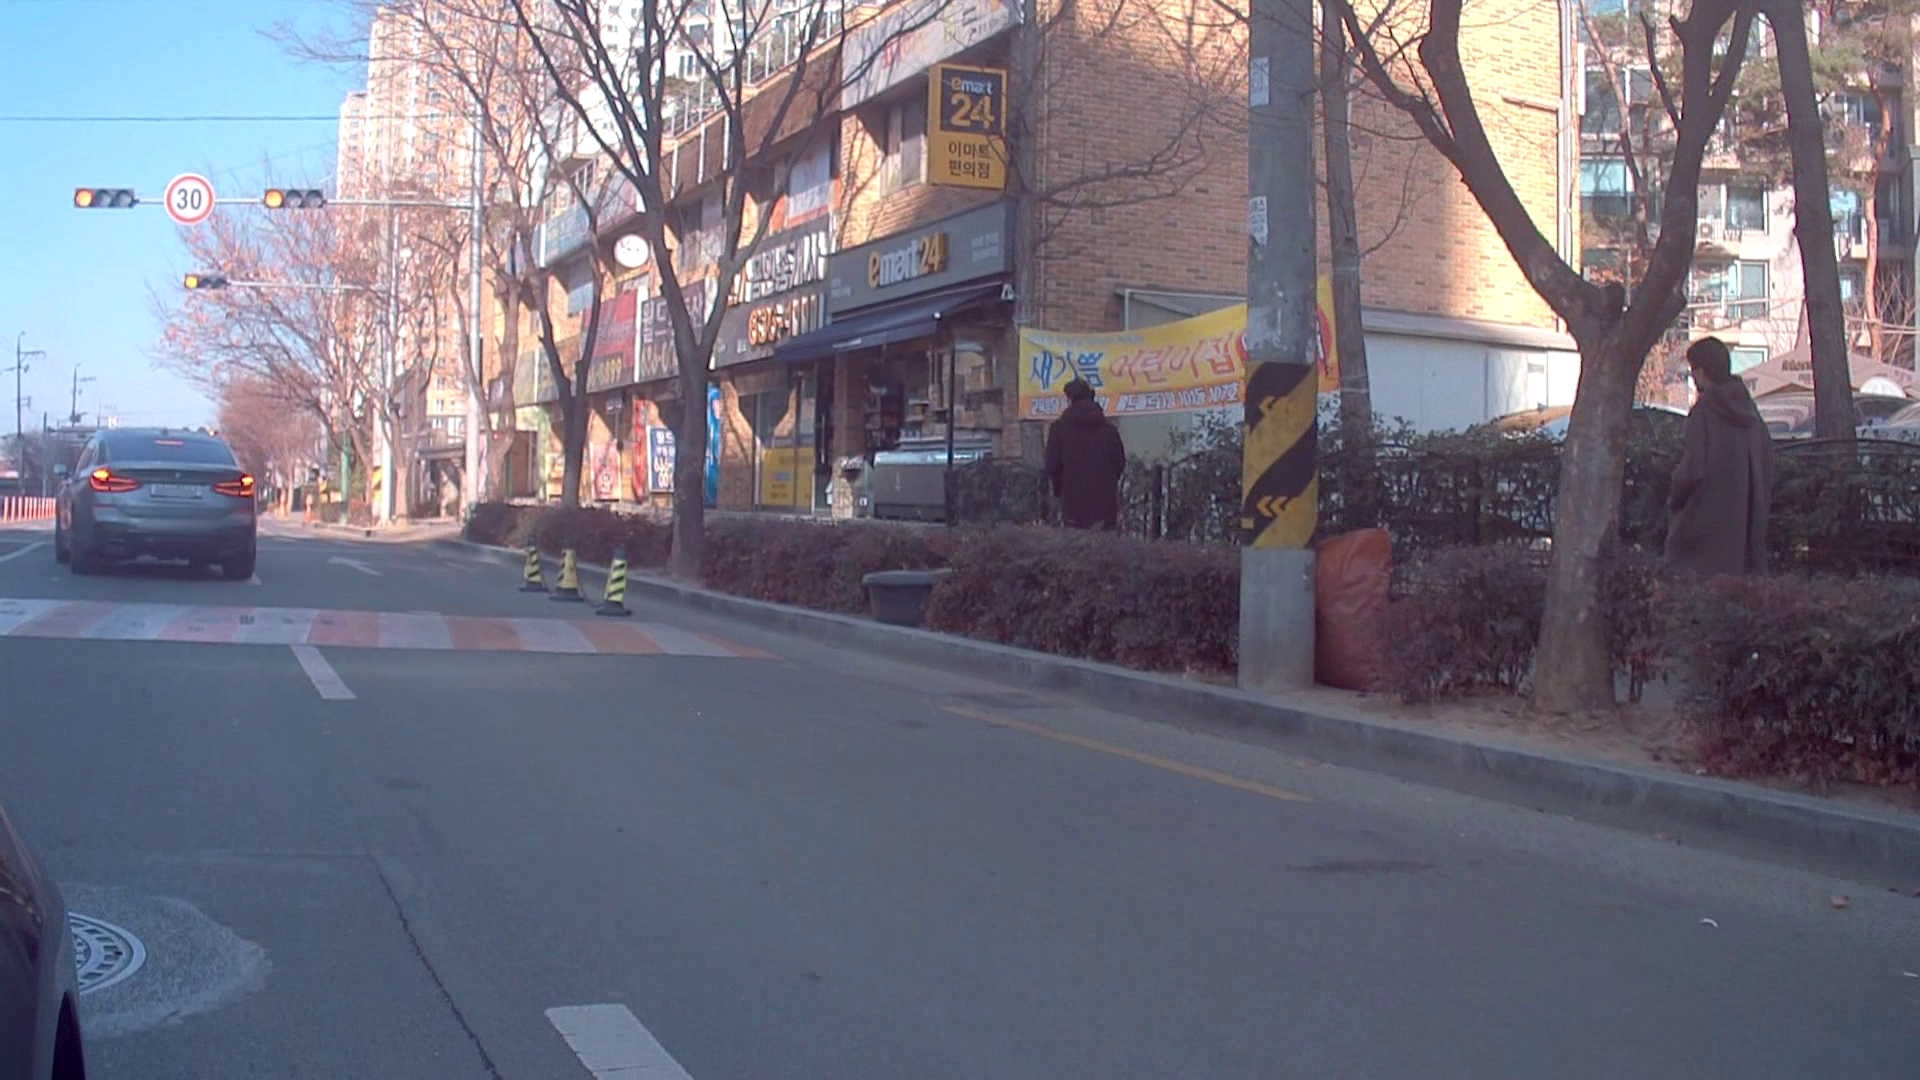trafficLight: (261, 183, 327, 211), (74, 185, 138, 210), (182, 270, 229, 290)
trafficSignCircle: (164, 174, 210, 225)
